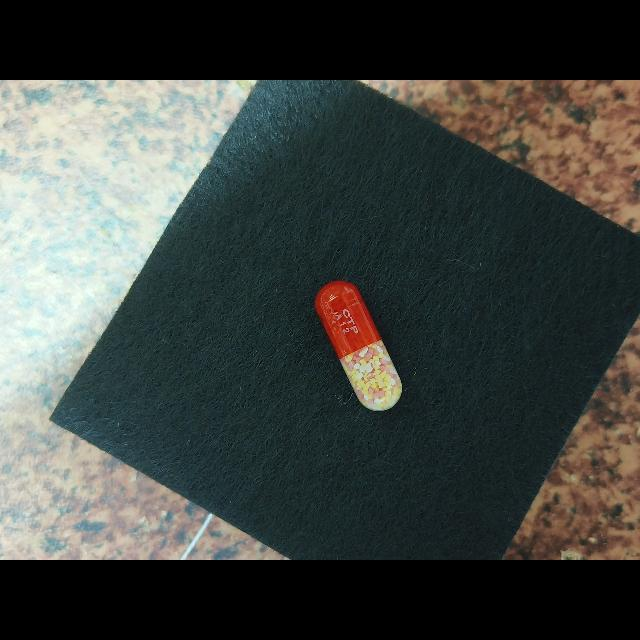Intact Capsule: (315, 280, 402, 411)
